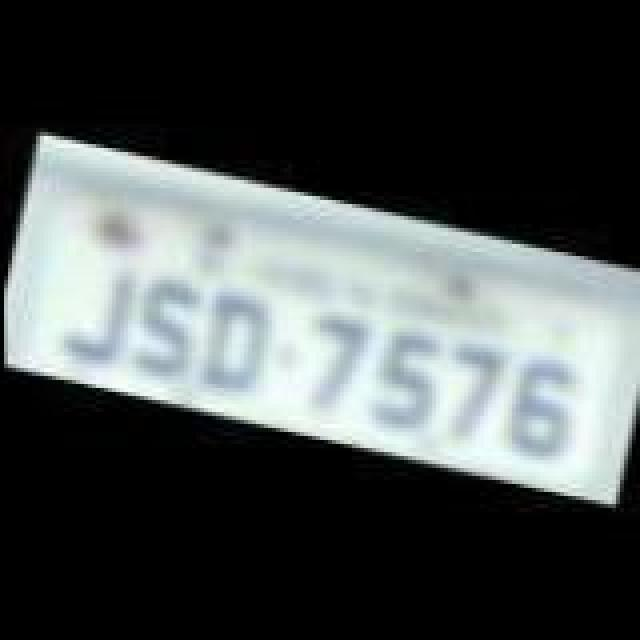5: (358, 320, 450, 436)
6: (486, 344, 590, 464)
7: (420, 334, 504, 446), (286, 308, 370, 420)
D: (186, 284, 278, 400)
J: (56, 258, 144, 374)
S: (122, 272, 206, 388)
